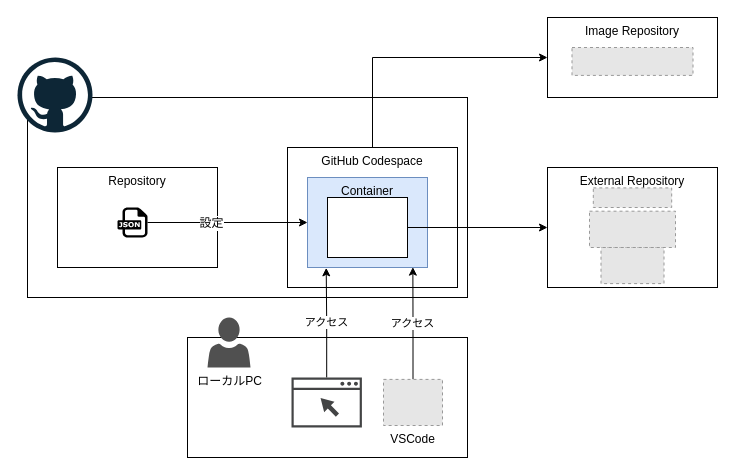
This 735x475 diagram has some shape labels left out. Grey dashed boxes stand in for pictures. The centre of each missing label's shape, as x and y in pixels:
"devcontainer.json" goes at point 132,222.
"GitHub" goes at point 54,94.
"OS MW DevTool" goes at point 367,227.
"ブラウザ" goes at point 326,402.
